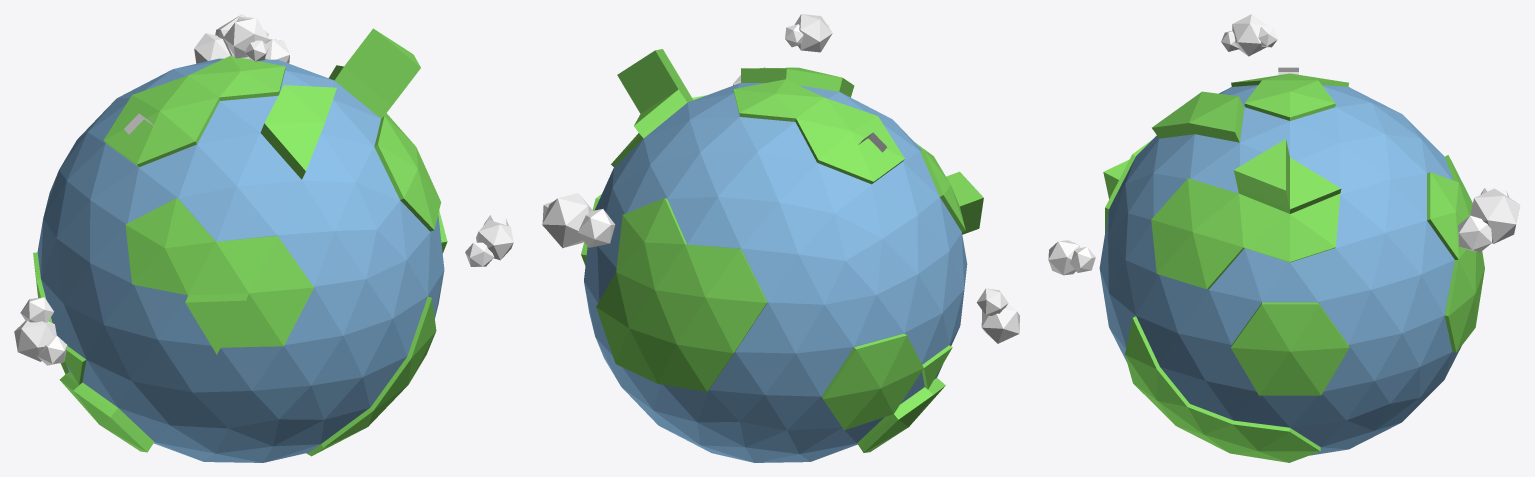
Rendered from earth2.glb.
3 renders of one model, left to right at view 1: azimuth 30°, elevation 25°; view 2: azimuth 150°, elevation 25°; view 3: azimuth 270°, elevation 25°, orthographic. The views are drawn at different scales.
Visible parts, largest first — view 1: Icosphere.001, Icosphere, Icosphere.009, Icosphere.012, nube1.1, Icosphere.007, Icosphere.008, Icosphere.010, nube1; view 2: Icosphere.001, Icosphere, Icosphere.006, Icosphere.007, Icosphere.009, Icosphere.012, Icosphere.008; view 3: Icosphere.001, Icosphere, Icosphere.006, Icosphere.005, Icosphere.012, nube1.1, nube1.2.
Part boxes in pixels (<box>): Icosphere.001: <box>37,58,444,462</box>; Icosphere: <box>33,28,447,456</box>; Icosphere.009: <box>14,320,56,361</box>; Icosphere.012: <box>223,18,268,58</box>; nube1.1: <box>476,220,513,260</box>; Icosphere.007: <box>194,33,230,63</box>; Icosphere.008: <box>20,297,53,322</box>; Icosphere.010: <box>37,335,67,365</box>; nube1: <box>465,242,494,266</box>; Icosphere.001: <box>584,83,967,462</box>; Icosphere: <box>581,49,983,452</box>; Icosphere.006: <box>542,193,593,248</box>; Icosphere.007: <box>578,209,615,247</box>; Icosphere.009: <box>981,303,1019,343</box>; Icosphere.012: <box>794,14,832,52</box>; Icosphere.008: <box>976,288,1008,315</box>; Icosphere.001: <box>1099,85,1461,455</box>; Icosphere: <box>1103,73,1484,462</box>; Icosphere.006: <box>1470,188,1520,243</box>; Icosphere.005: <box>1458,215,1492,252</box>; Icosphere.012: <box>1232,14,1268,56</box>; nube1.1: <box>1048,240,1079,275</box>; nube1.2: <box>1070,247,1095,272</box>.
Bounding box in the file's own units: 2.44 × 2.44 × 2.52.
